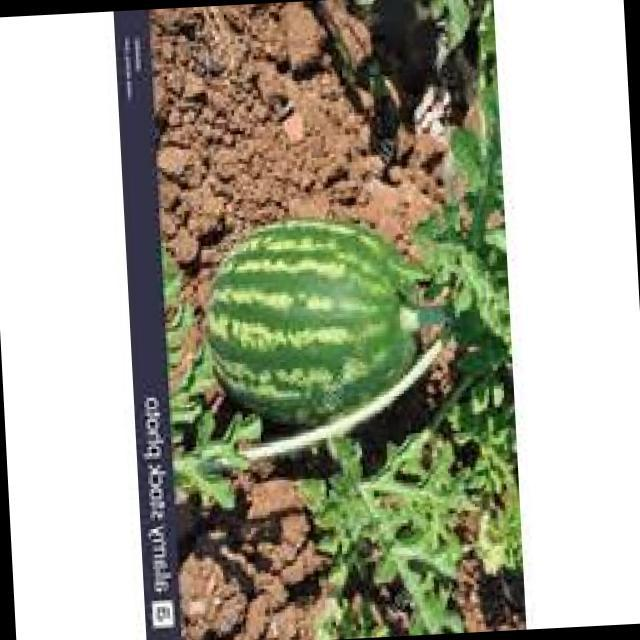watermelon: (206, 220, 439, 431)
